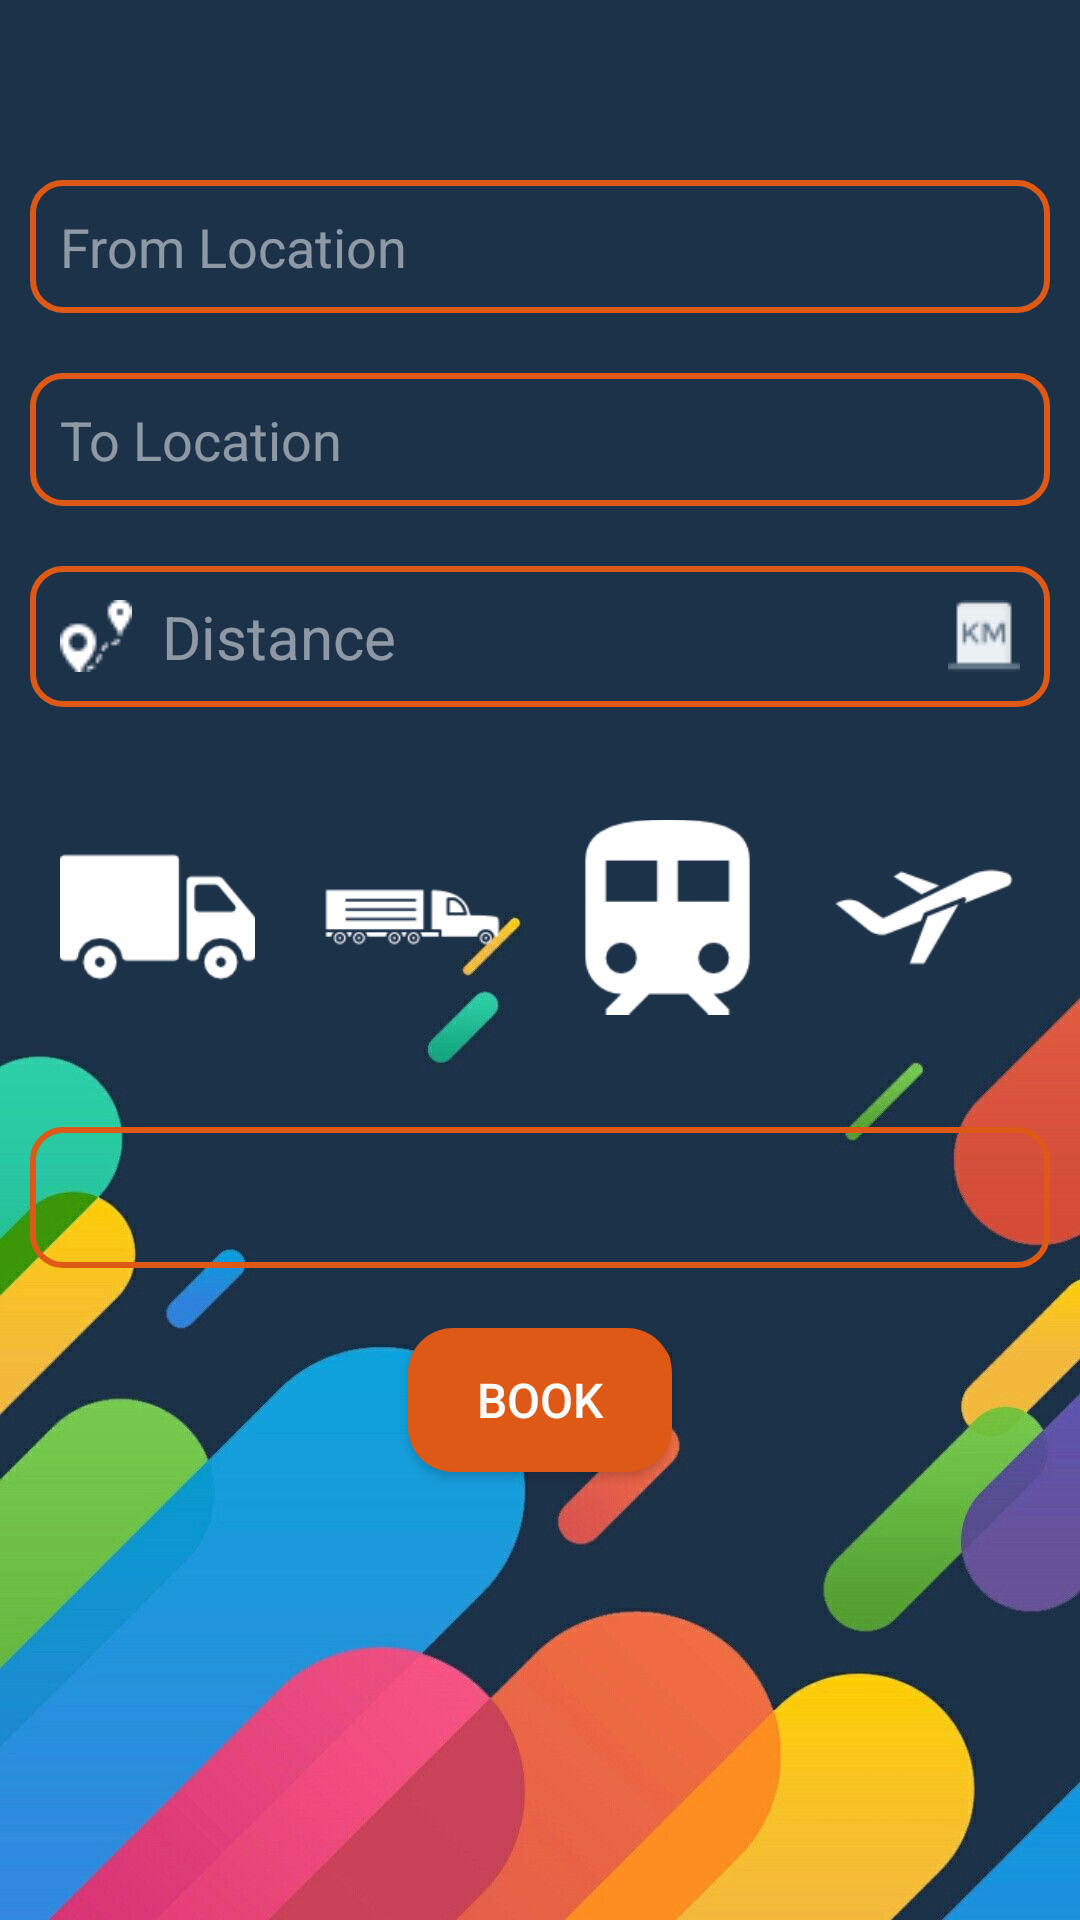

Screen size 1080px×1920px. Icon name, then its center in pixels as (x,y):
cargotruck: (157,917)
train: (667,917)
